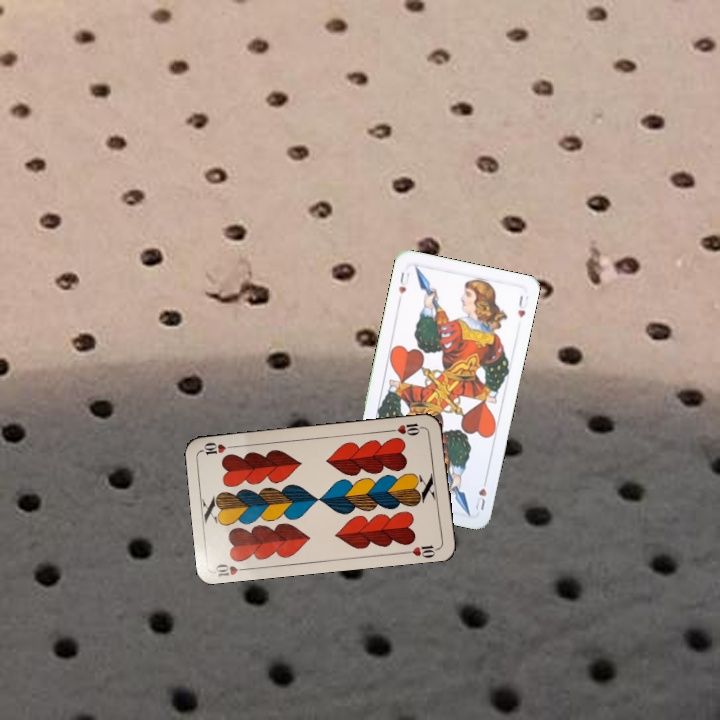H10: (386, 419, 427, 438), (211, 560, 252, 579)
HU: (471, 474, 490, 513), (394, 268, 412, 304)
